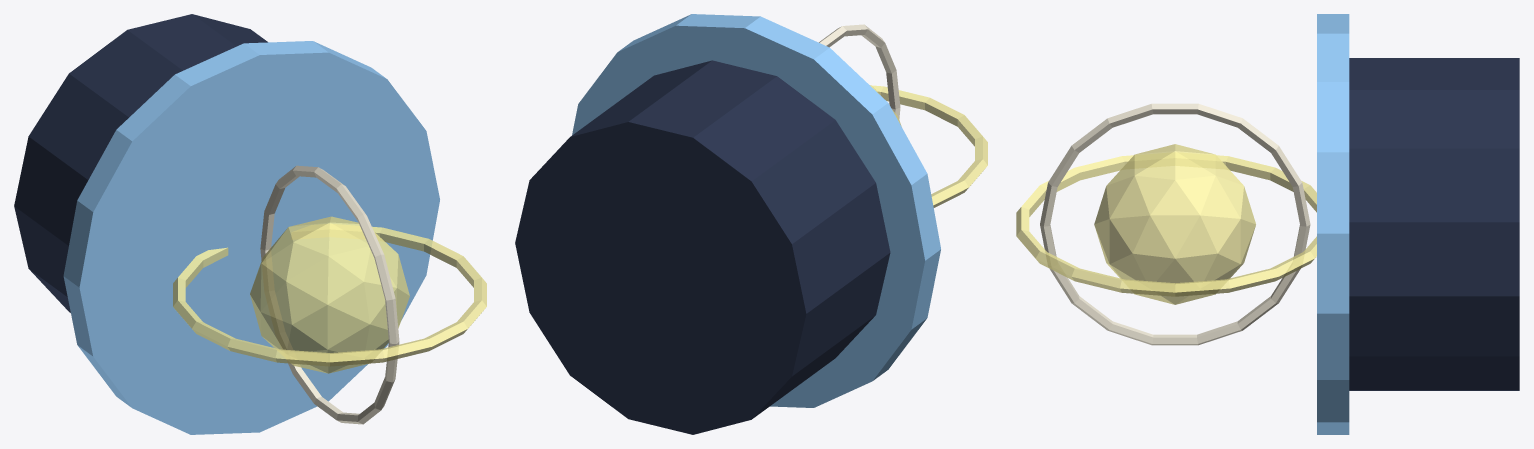
Rendered from 09_high_tier_relic_pedestal.glb.
3 views of the same model, side by side, from view 1: azimuth 30°, elevation 25°; view 2: azimuth 150°, elevation 25°; view 3: azimuth 270°, elevation 25° (orthographic).
Parts seen in each view (by area): view 1: top_rim, relic_pedestal, floating_relic_core, relic_orbit_a, relic_orbit_b; view 2: relic_pedestal, top_rim, relic_orbit_a, relic_orbit_b; view 3: relic_pedestal, floating_relic_core, top_rim, relic_orbit_b, relic_orbit_a.
Part boxes in pixels (x1,y1,x2,y2): top_rim: (63, 41, 439, 434); relic_pedestal: (14, 14, 267, 312); floating_relic_core: (250, 216, 409, 373); relic_orbit_a: (173, 226, 486, 366); relic_orbit_b: (260, 165, 399, 424); relic_pedestal: (515, 60, 890, 434); top_rim: (572, 14, 940, 407); relic_orbit_a: (871, 85, 987, 207); relic_orbit_b: (819, 24, 900, 119); relic_pedestal: (1349, 58, 1519, 390); floating_relic_core: (1094, 144, 1255, 304); top_rim: (1317, 14, 1349, 434); relic_orbit_b: (1040, 103, 1310, 345); relic_orbit_a: (1016, 155, 1316, 296).
Size of the model in its own units: 1.04 by 1.04 by 1.24.
